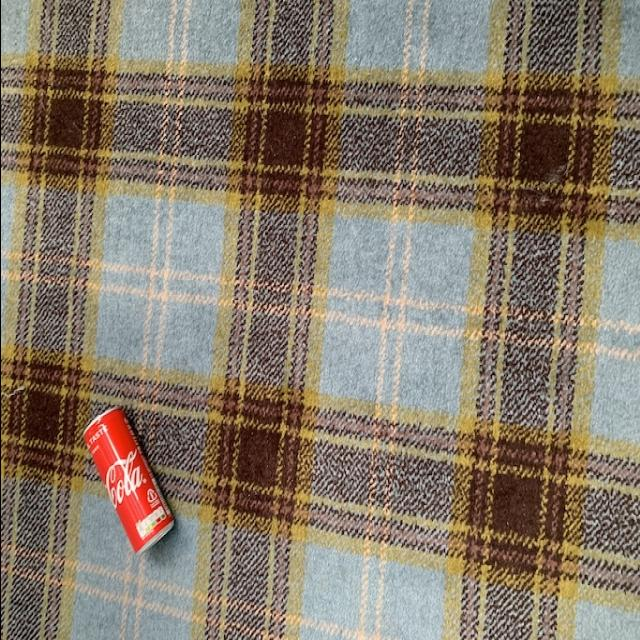Aluminum Can: (75, 406, 177, 555)
